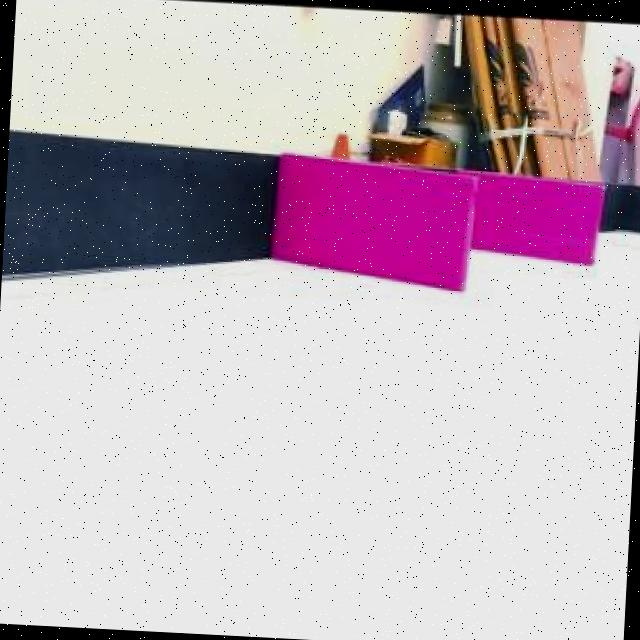xparking: (272, 156, 473, 286), (476, 170, 607, 262)
